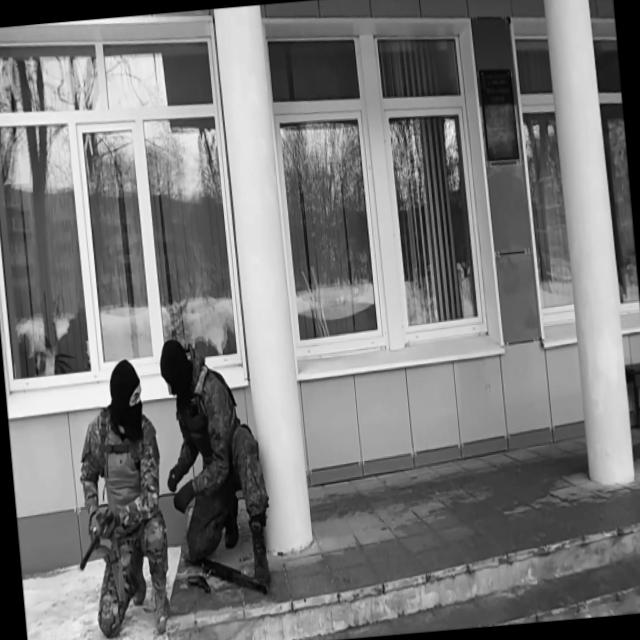gun: (181, 539, 269, 604), (74, 504, 120, 572), (185, 570, 212, 598)
person with a gun: (154, 330, 277, 598), (62, 354, 175, 640)
